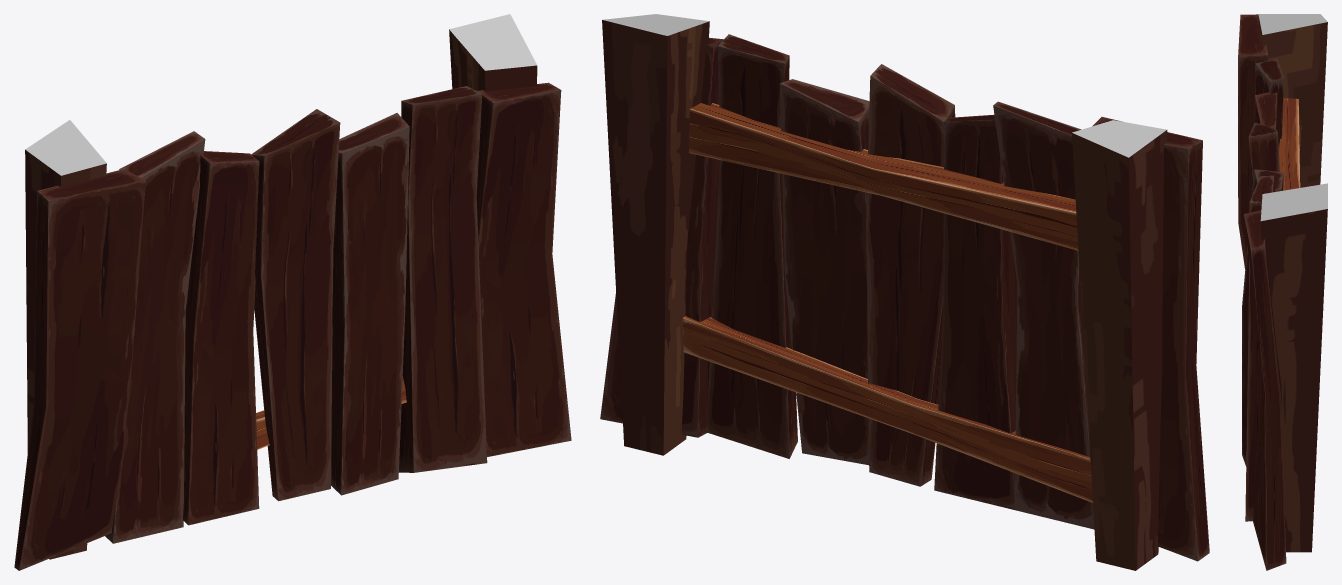
The model's file is SM_PROP_fence_v04_01.fbx.
The picture shows the model from 3 angles, left to right: view 1: azimuth 30°, elevation 25°; view 2: azimuth 150°, elevation 25°; view 3: azimuth 270°, elevation 25°; orthographic projection. The views are drawn at different scales.
Parts seen in each view (by area): view 1: SM_PROP_fence_v04_01; view 2: SM_PROP_fence_v04_01; view 3: SM_PROP_fence_v04_01.
Boxes of the visible parts, x1,y1,x2,y2 form: SM_PROP_fence_v04_01: (14, 14, 571, 570); SM_PROP_fence_v04_01: (600, 14, 1209, 570); SM_PROP_fence_v04_01: (1238, 14, 1327, 570).
Size of the model in its own units: 572 by 401 by 92.73.
